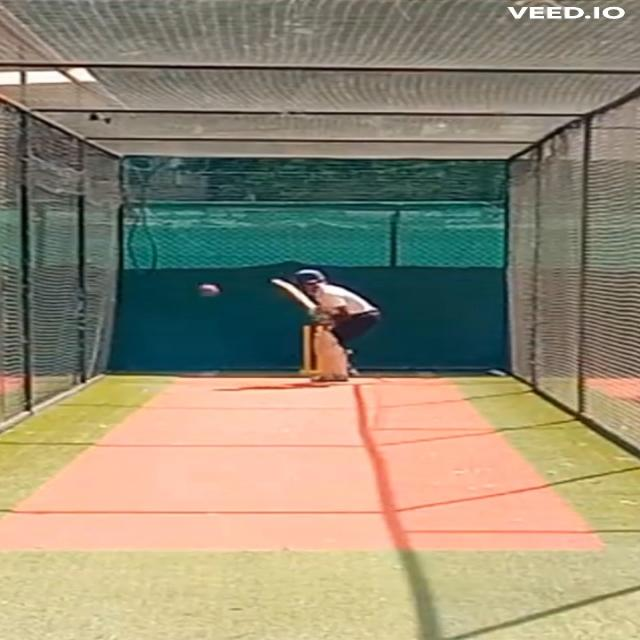ball: (196, 284, 221, 298)
stump: (300, 324, 326, 374)
